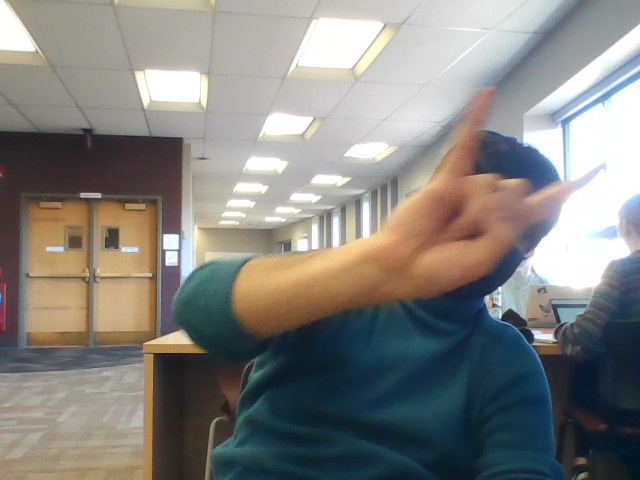help: (378, 78, 610, 307)
